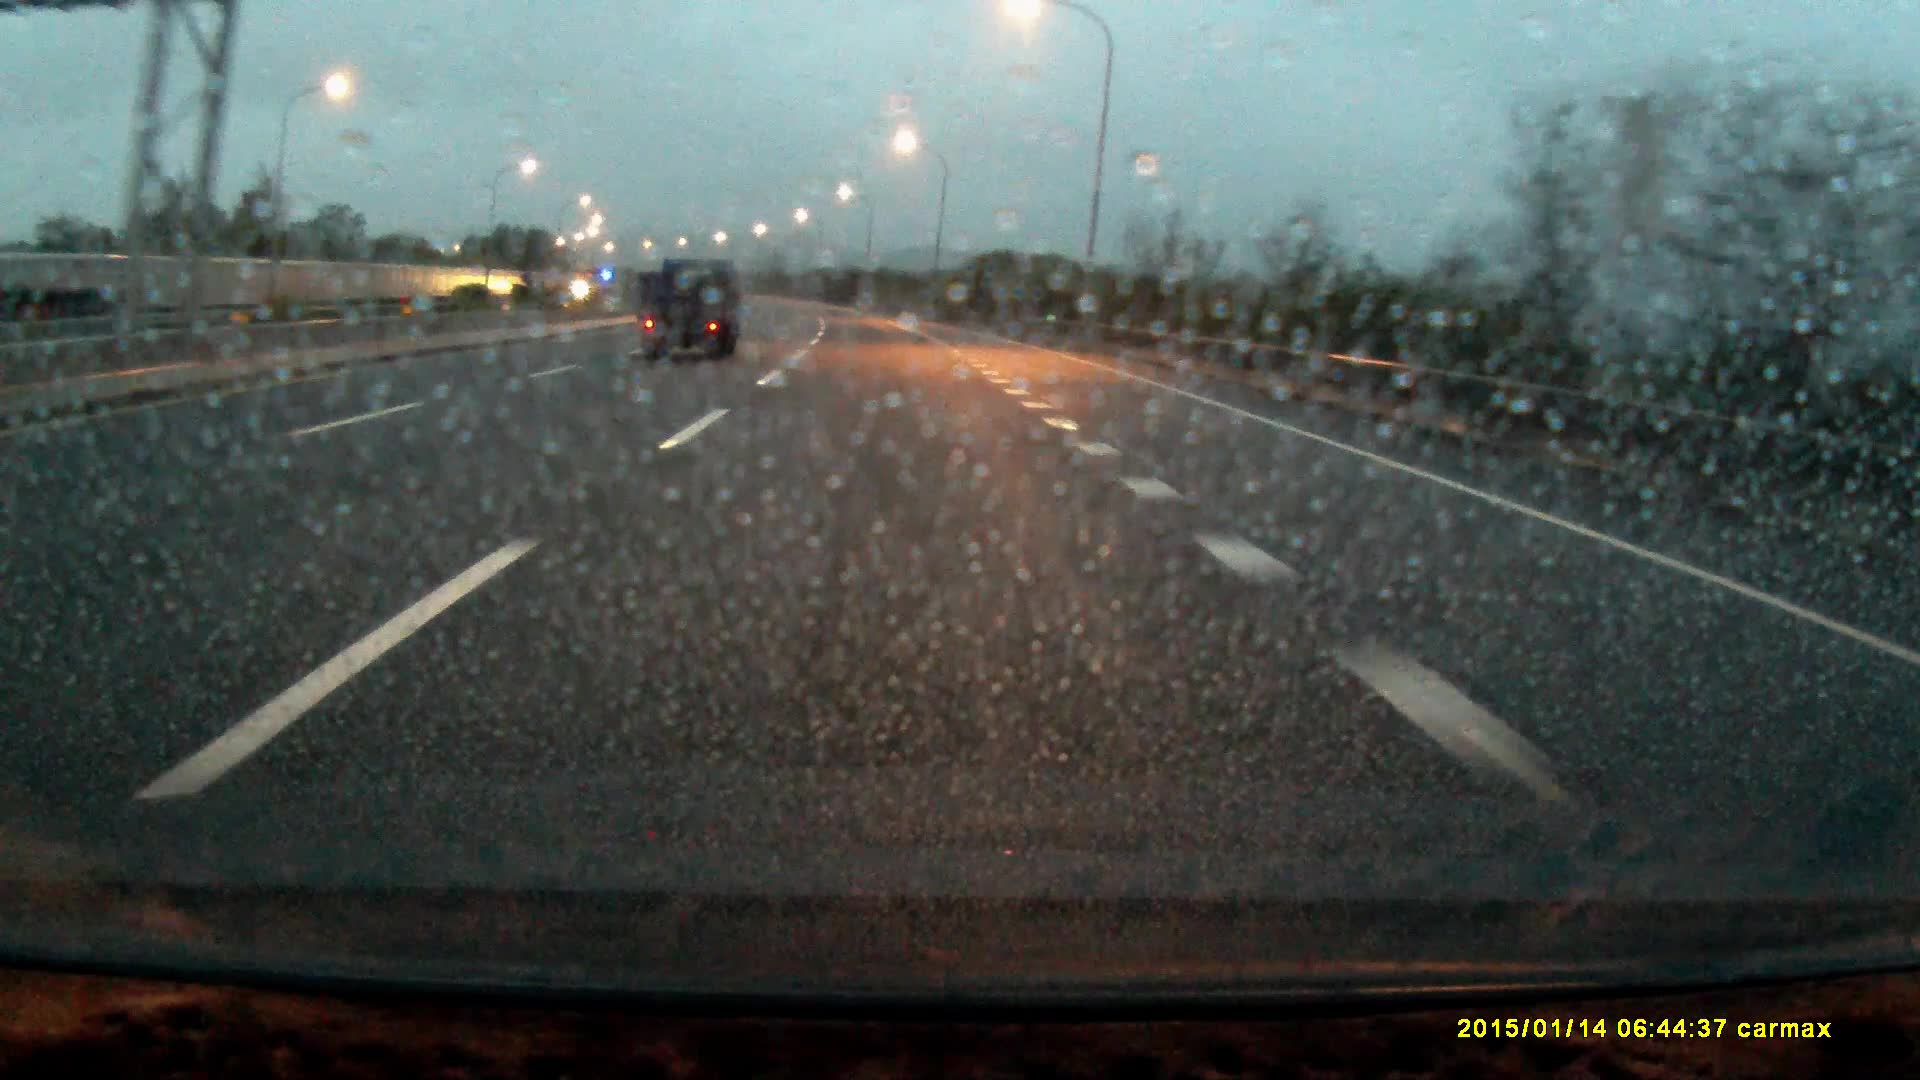vehicle: (640, 255, 744, 367), (3, 276, 144, 324)
